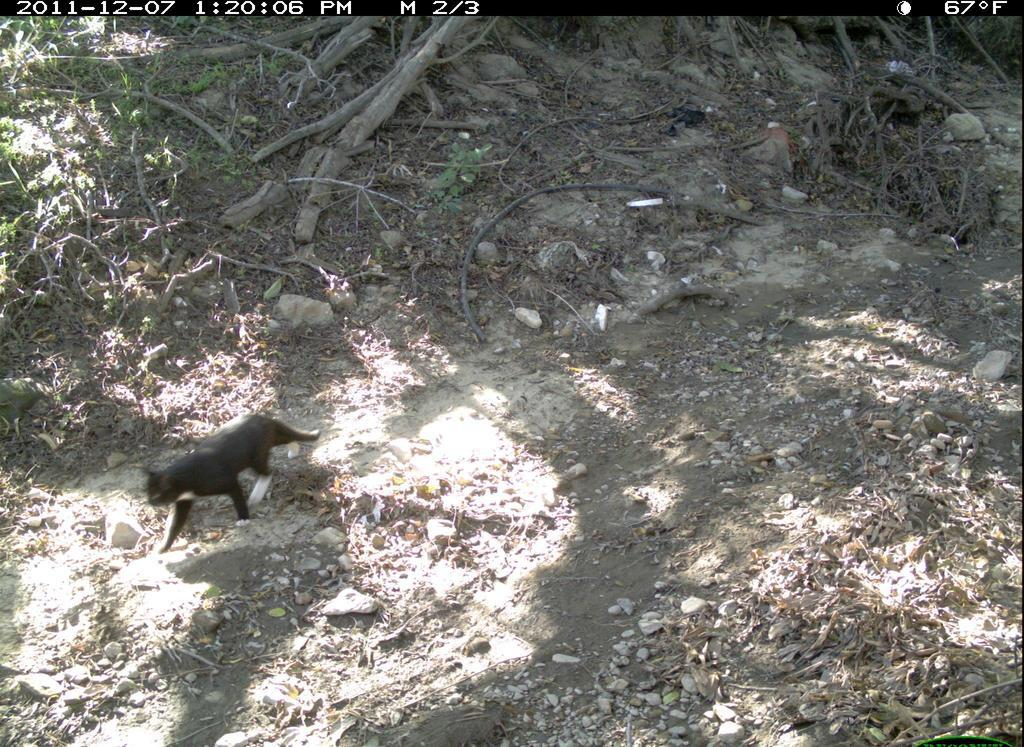cat: (131, 392, 350, 568)
